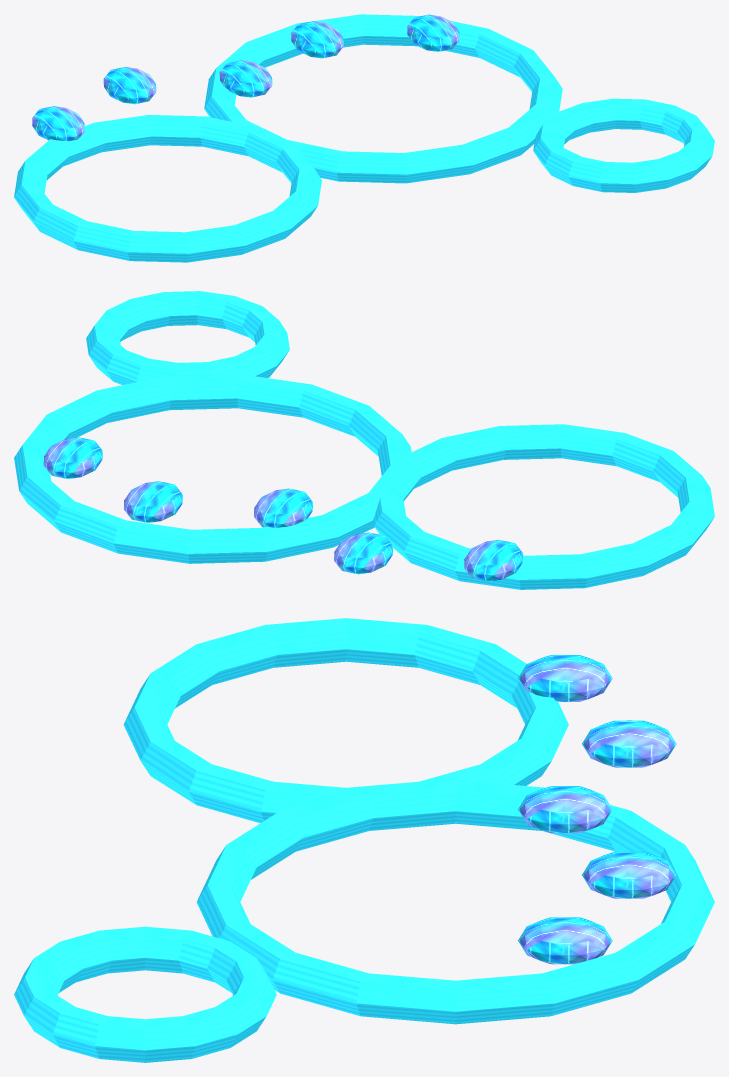
Rendered from forest_foam.glb.
The picture shows the model from 3 angles, top to bottom: view 1: azimuth 30°, elevation 25°; view 2: azimuth 150°, elevation 25°; view 3: azimuth 270°, elevation 25°; orthographic projection. The views are drawn at different scales.
Visible parts, largest first — view 1: River foam ripple, River foam ripple.001, River foam ripple.002, Foam bead.001, Foam bead.003, Foam bead.004, Foam bead.002, Foam bead; view 2: River foam ripple.001, River foam ripple, River foam ripple.002, Foam bead.004, Foam bead, Foam bead.001, Foam bead.003, Foam bead.002; view 3: River foam ripple.001, River foam ripple, River foam ripple.002, Foam bead.001, Foam bead.003, Foam bead.004, Foam bead.002, Foam bead.
Part boxes in pixels (<box>): River foam ripple: <box>14,115,321,262</box>; River foam ripple.001: <box>204,14,562,183</box>; River foam ripple.002: <box>533,98,714,192</box>; Foam bead.001: <box>103,67,156,104</box>; Foam bead.003: <box>291,21,343,58</box>; Foam bead.004: <box>407,14,459,51</box>; Foam bead.002: <box>219,60,272,97</box>; Foam bead: <box>32,106,84,141</box>; River foam ripple.001: <box>14,374,411,563</box>; River foam ripple: <box>373,424,714,589</box>; River foam ripple.002: <box>86,291,289,384</box>; Foam bead.004: <box>43,437,102,478</box>; Foam bead: <box>464,539,523,581</box>; Foam bead.001: <box>334,532,392,574</box>; Foam bead.003: <box>124,481,182,522</box>; Foam bead.002: <box>254,488,312,527</box>; River foam ripple.001: <box>196,780,714,1024</box>; River foam ripple: <box>123,618,568,823</box>; River foam ripple.002: <box>14,926,276,1062</box>; Foam bead.001: <box>582,720,676,767</box>; Foam bead.003: <box>582,851,676,898</box>; Foam bead.004: <box>518,917,612,964</box>; Foam bead.002: <box>518,786,612,833</box>; Foam bead: <box>518,655,612,701</box>.
Bounding box in the file's own units: 0.544 × 0.0364 × 0.384.
Materials: 2 (2 with a texture image).
